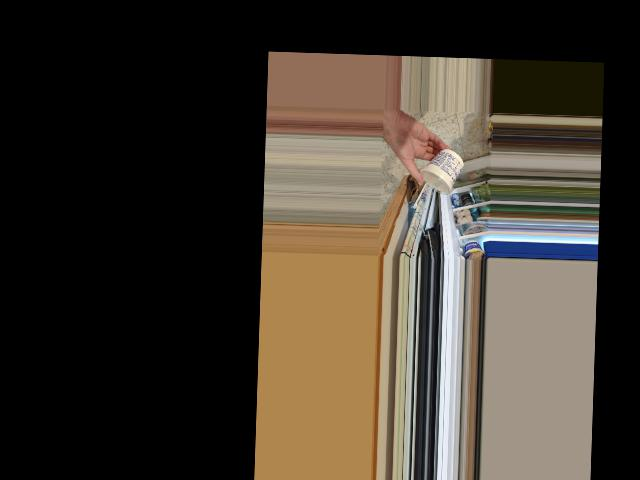cotage: (422, 149, 462, 195)
